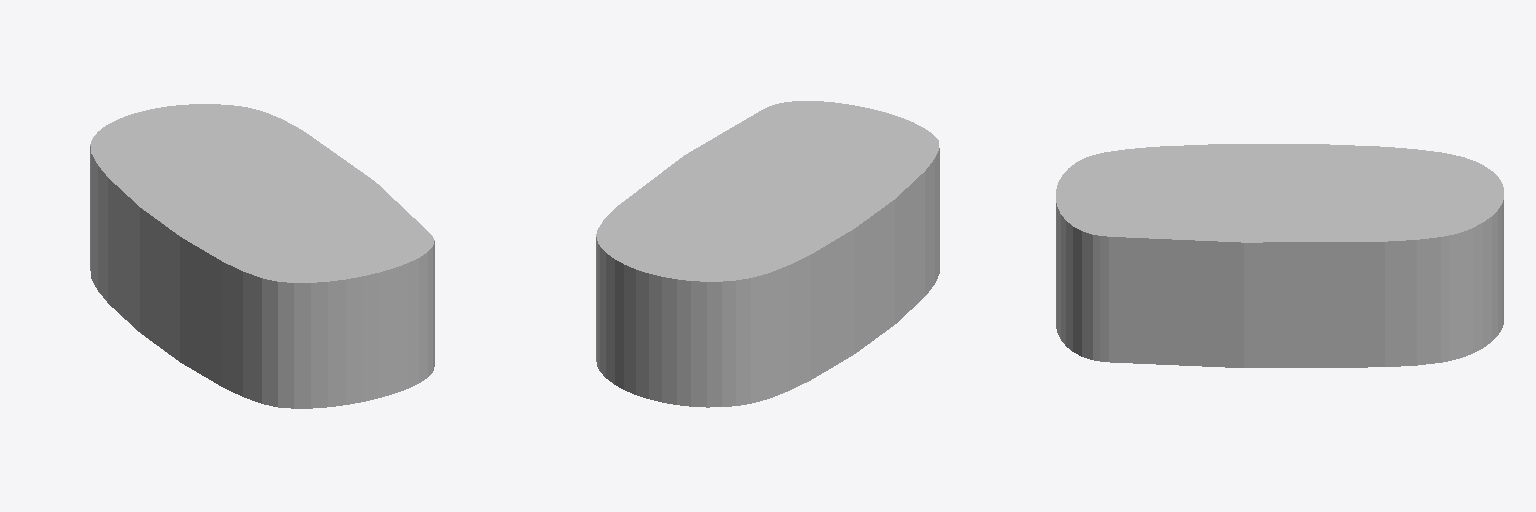
Rendered from mesa-obs-4.obj.
3 renders of one model, left to right at view 1: azimuth 30°, elevation 25°; view 2: azimuth 150°, elevation 25°; view 3: azimuth 270°, elevation 25°, orthographic.
Visible parts, largest first — view 1: mesa-obs-4; view 2: mesa-obs-4; view 3: mesa-obs-4.
Boxes of the visible parts, box(x1,y1,x2,y2) form: mesa-obs-4: box(90, 104, 434, 408); mesa-obs-4: box(596, 101, 939, 407); mesa-obs-4: box(1056, 144, 1503, 367).
Size of the model in its own units: 0.0319 by 0.0189 by 0.0612.